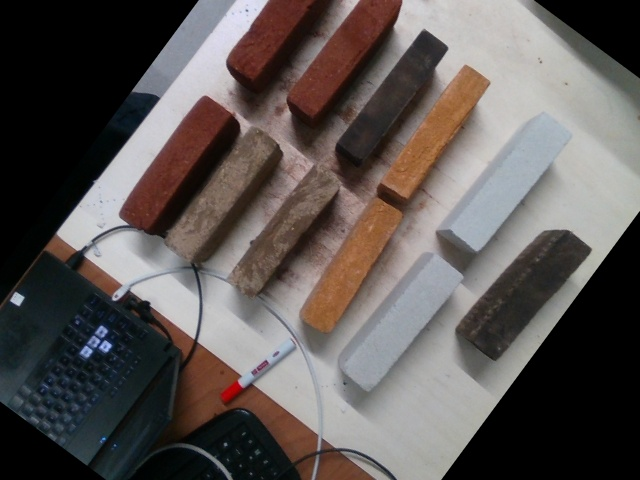brick-side: (470, 226, 594, 361), (342, 254, 465, 390), (450, 112, 570, 250), (335, 25, 450, 164), (118, 91, 231, 232), (165, 124, 279, 258), (229, 163, 343, 294), (382, 62, 490, 199), (284, 0, 406, 118), (300, 196, 407, 330)
